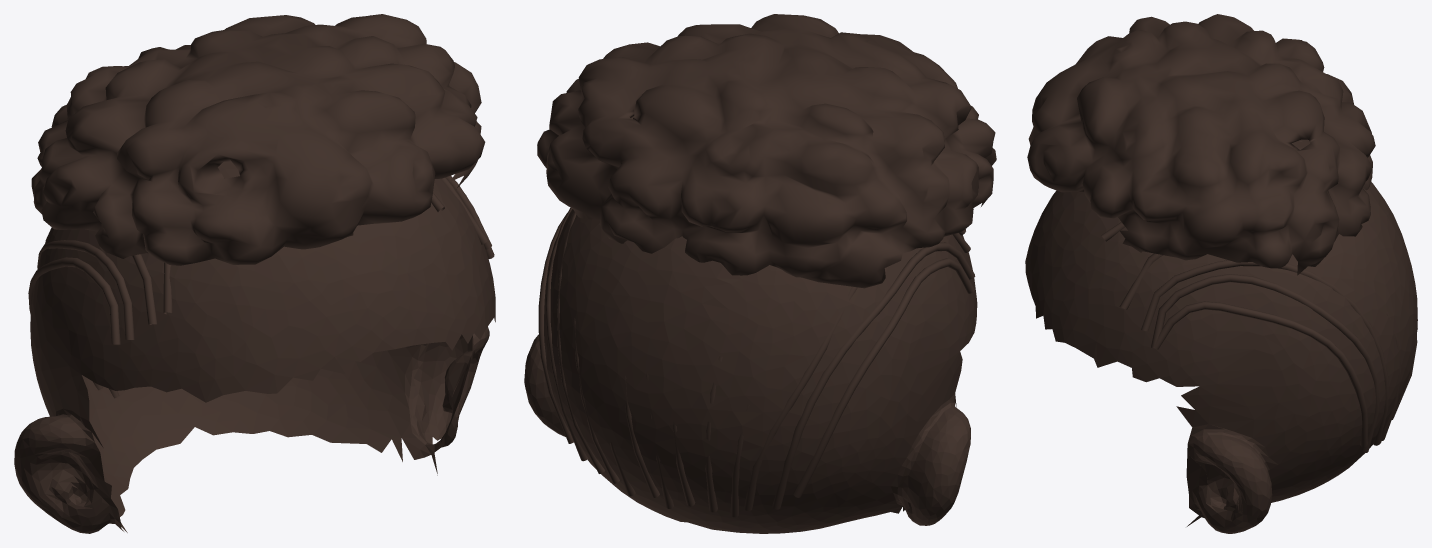
File: curls.glb
3 renders of one model, left to right at view 1: azimuth 30°, elevation 25°; view 2: azimuth 150°, elevation 25°; view 3: azimuth 270°, elevation 25°, orthographic. The views are drawn at different scales.
Visible parts, largest first — view 1: HairScalp, Hair, HairPulledRootStrands; view 2: HairScalp, Hair, HairPulledRootStrands; view 3: HairScalp, Hair, HairPulledRootStrands.
Boxes of the visible parts, bbox=[...] form: HairScalp: bbox=[14, 161, 495, 533]; Hair: bbox=[31, 14, 485, 265]; HairPulledRootStrands: bbox=[28, 175, 494, 398]; HairScalp: bbox=[524, 209, 977, 533]; Hair: bbox=[537, 14, 996, 288]; HairPulledRootStrands: bbox=[538, 207, 975, 517]; HairScalp: bbox=[1025, 139, 1417, 533]; Hair: bbox=[1027, 14, 1375, 275]; HairPulledRootStrands: bbox=[1101, 140, 1417, 452].
Bounding box in the file's own units: 0.5136 × 0.483 × 0.4332.
